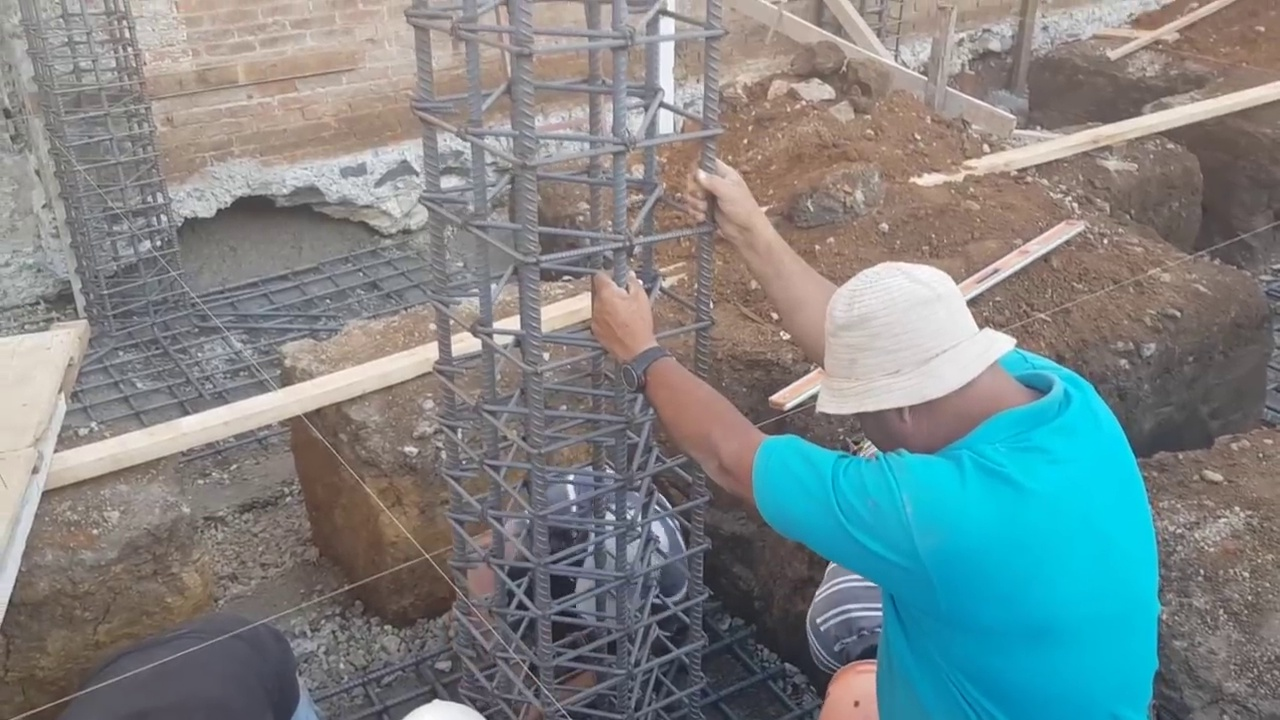helmet: (818, 659, 886, 717)
helmet-off: (807, 267, 1047, 456), (557, 505, 666, 632)
helmet-on: (811, 633, 900, 713)
person: (598, 161, 1165, 720), (458, 462, 693, 719), (57, 608, 332, 720), (805, 549, 917, 720)
